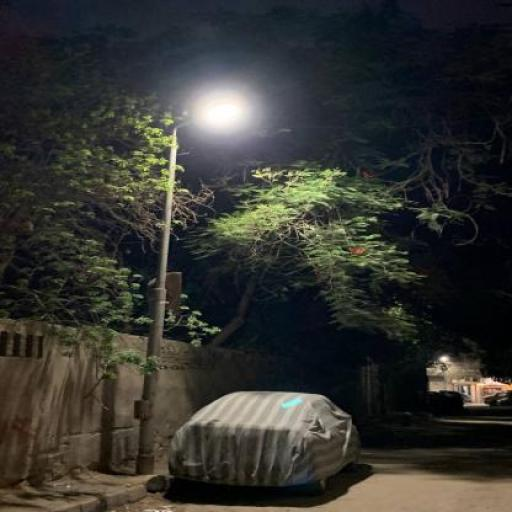street light: (134, 102, 239, 476)
